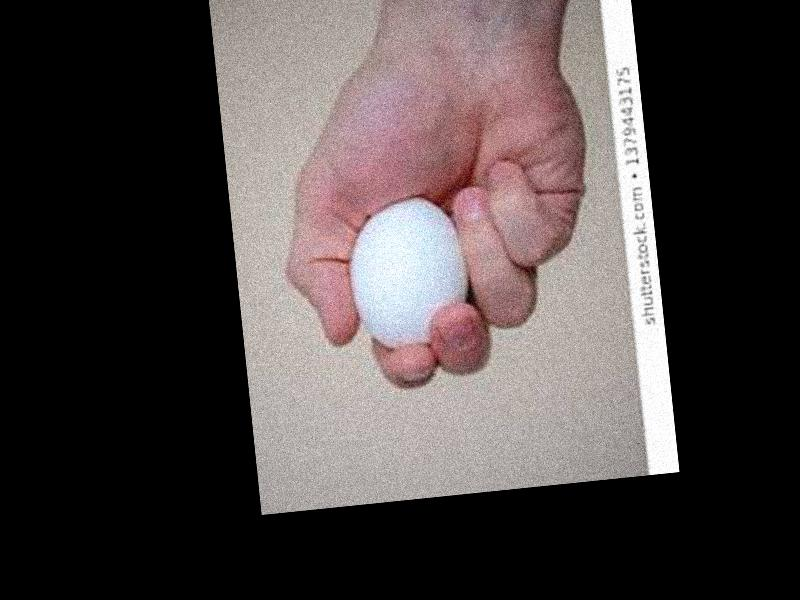Eggs: (343, 190, 472, 351)
